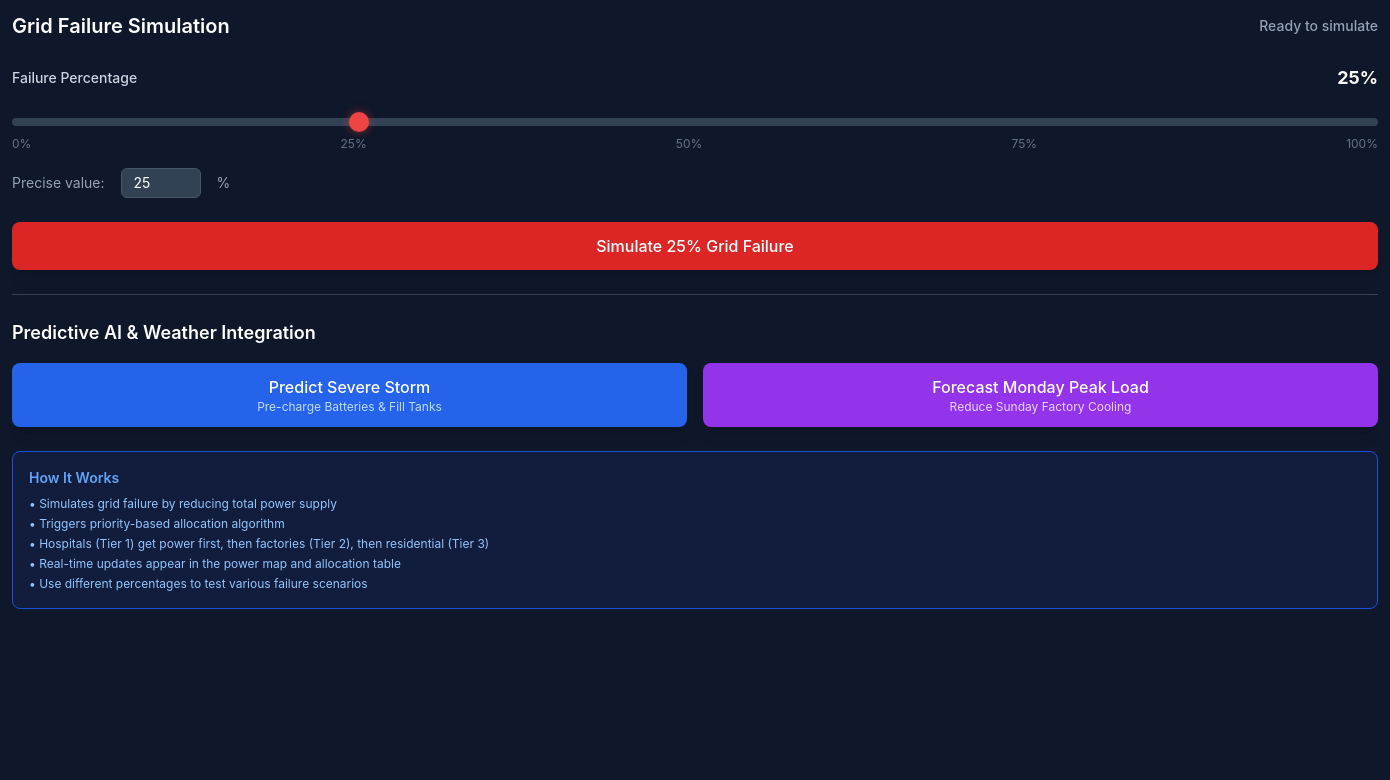
Test: SimulationPanel Component › clears error when clear button is clicked
Click the button "Simulate 25% Grid Failure" at (695, 246), box [12,222,1378,270]
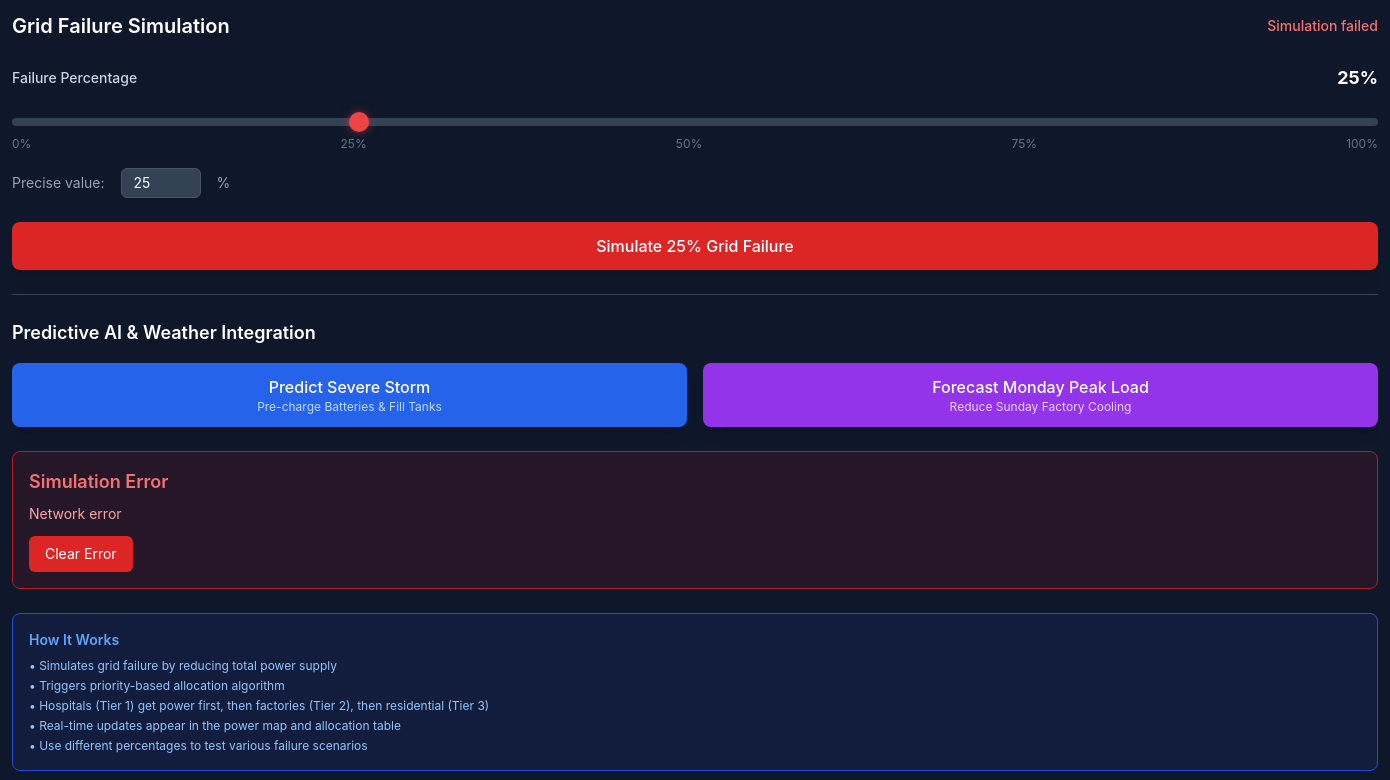
Expected: the heading "Simulation Error" is shown, [29,471,168,492]
Click the button "Clear Error" at (81, 554), box [29,536,133,572]
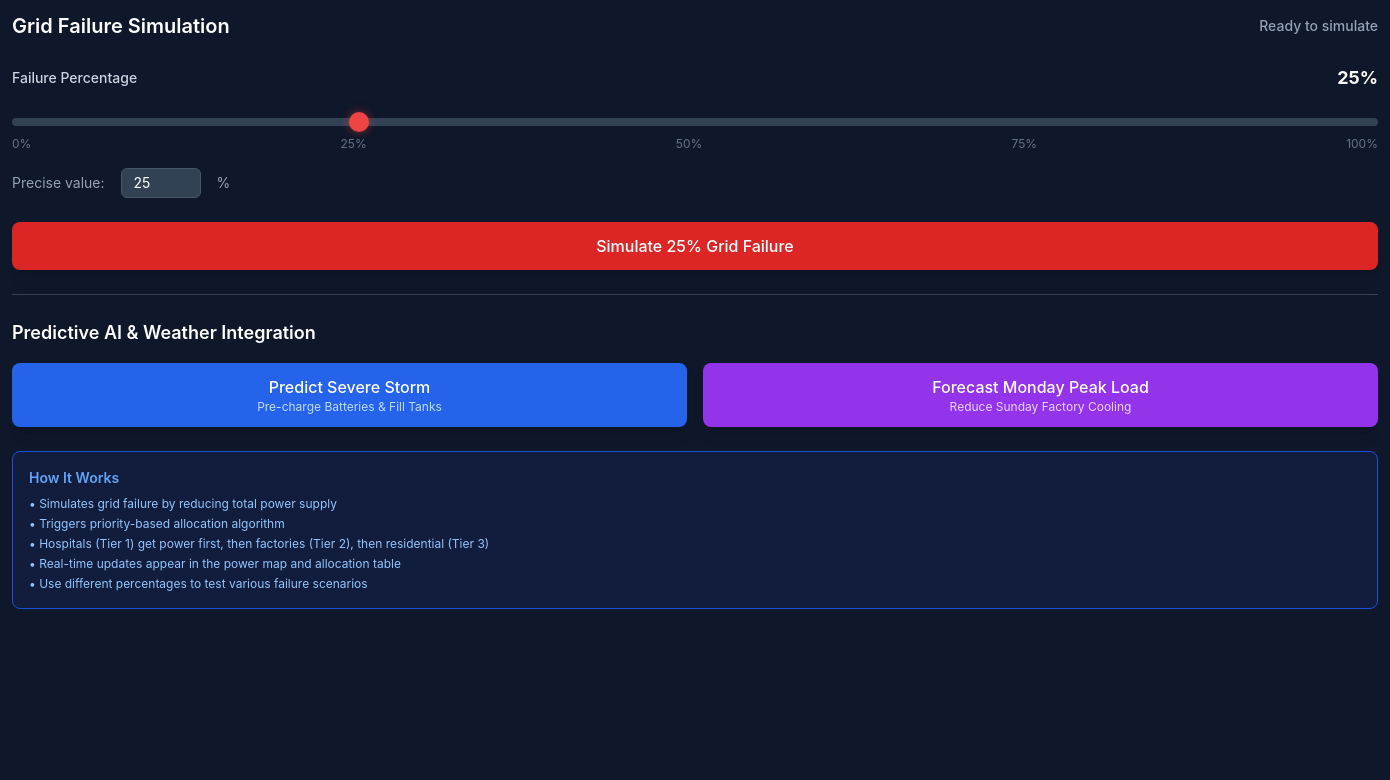
Expected: the heading "Simulation Error" is gone
Expected: the text "Ready to simulate" is shown, [1259,16,1378,36]
